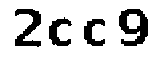2: (14, 4, 45, 52)
9: (117, 6, 149, 50)
c: (48, 17, 74, 50), (82, 18, 108, 48)
